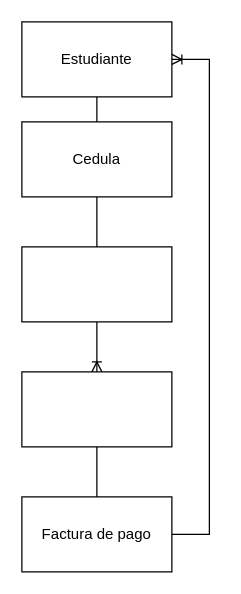
Some shapes in this 241 by 594 pixel diagram are drawn without their labels. Each missing label, with the centre of its shape:
"Matricula" belongs at (x=96, y=284).
"Pago" belongs at (x=96, y=409).
